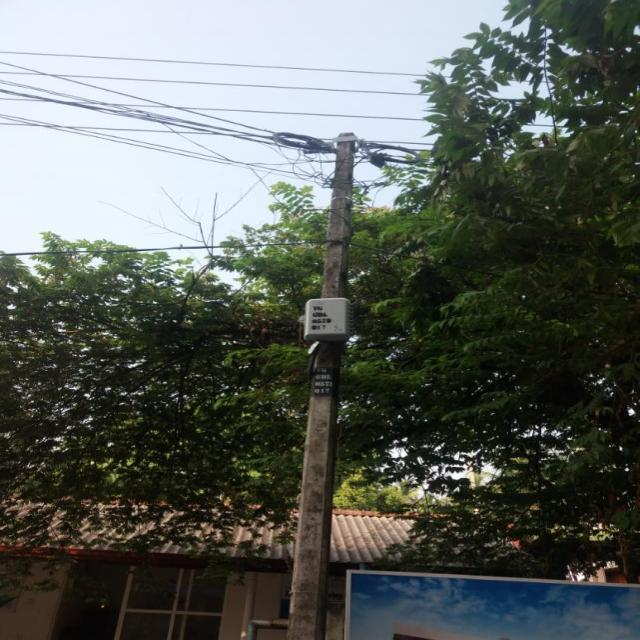light_pole: (290, 126, 364, 640)
